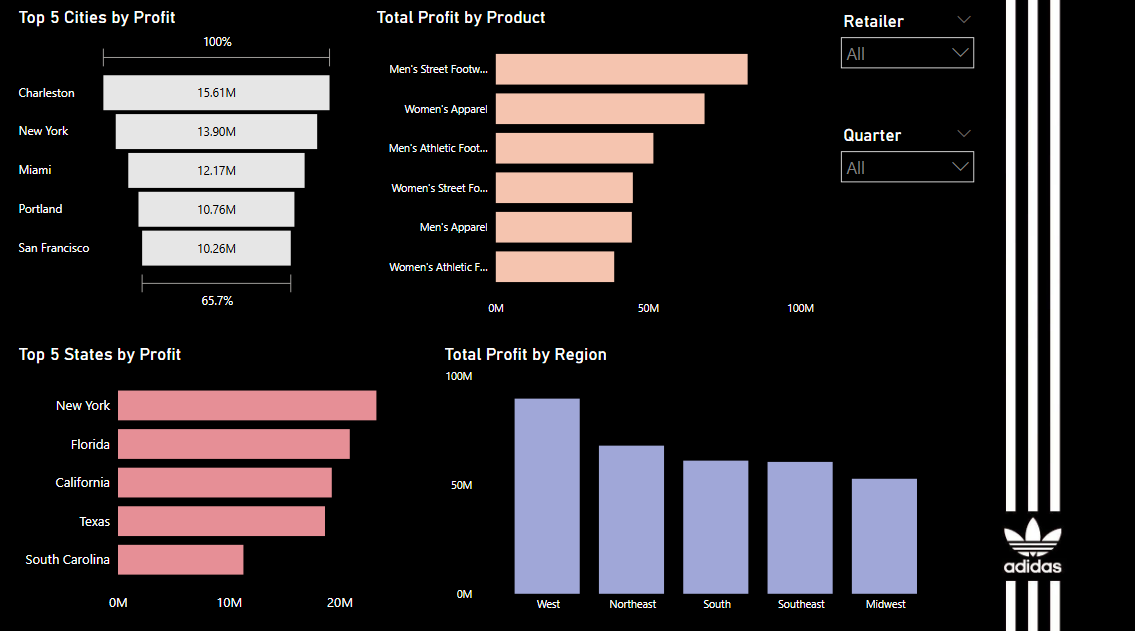

What the dashboard file says about the page in this screenshot:
{"tool":"powerbi","page":{"name":"Profit Analysis by Retailer","canvas":[1280,720],"ordinal":1},"visuals":[{"type":"slicer","fields":{"Values":["Data Sales Adidas.Retailer"]},"box":[938.2,14.1,169.6,79.7],"z":0},{"type":"barChart","fields":{"Category":["Data Sales Adidas.Product"],"Y":["Sum(Data Sales Adidas.Operating Profit)"]},"box":[420.2,14.1,502.5,357.3],"z":1000},{"type":"columnChart","fields":{"Category":["Data Sales Adidas.Region"],"Y":["Sum(Data Sales Adidas.Operating Profit)"]},"box":[497.3,393.3,582.2,311],"z":2000},{"type":"slicer","fields":{"Values":["Data Sales Adidas.Invoice Date.Variation.Date Hierarchy.Quarter"]},"box":[938.2,142.7,169.6,88.7],"z":3000},{"type":"barChart","title":"Top 5 States by Profit","fields":{"Category":["Data Sales Adidas.State"],"Y":["Sum(Data Sales Adidas.Operating Profit)"]},"box":[18,393.3,448.5,311],"z":4000},{"type":"funnel","title":"Top 5 Cities by Profit","fields":{"Category":["Data Sales Adidas.City"],"Y":["Sum(Data Sales Adidas.Operating Profit)"]},"box":[18,14.1,365,345.7],"z":5000}]}

Visuals, with their boxes in screenshot pixels (x1, y1, x2, y2), scaled from the page's 1280x720 canvas onto the 1135x631 screenshot:
slicer - Data Sales Adidas.Retailer: select_region(832, 12, 982, 82)
barChart - Data Sales Adidas.Product x Sum(Data Sales Adidas.Operating Profit): select_region(373, 12, 818, 325)
columnChart - Data Sales Adidas.Region x Sum(Data Sales Adidas.Operating Profit): select_region(441, 345, 957, 617)
slicer - Data Sales Adidas.Invoice Date.Variation.Date Hierarchy.Quarter: select_region(832, 125, 982, 203)
"Top 5 States by Profit" barChart: select_region(16, 345, 414, 617)
"Top 5 Cities by Profit" funnel: select_region(16, 12, 340, 315)
